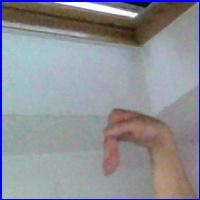del: (99, 101, 173, 181)
